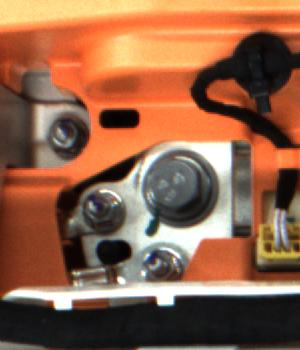nut_b: (141, 150, 207, 219)
screw_s: (44, 112, 80, 157), (77, 188, 116, 225), (141, 245, 178, 283)
